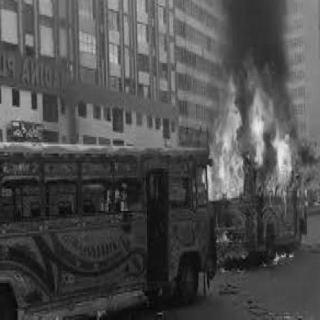Fire: (270, 249, 290, 261), (217, 228, 233, 241)
Smoke: (221, 1, 293, 55)
